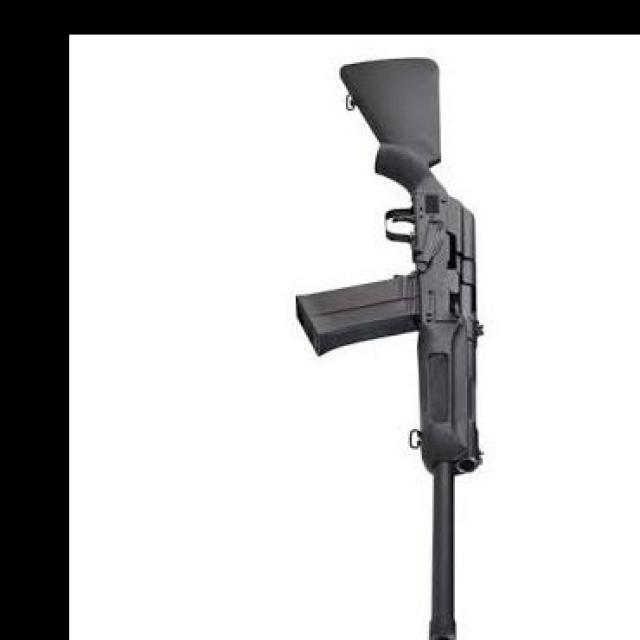weapon: (295, 55, 487, 640)
